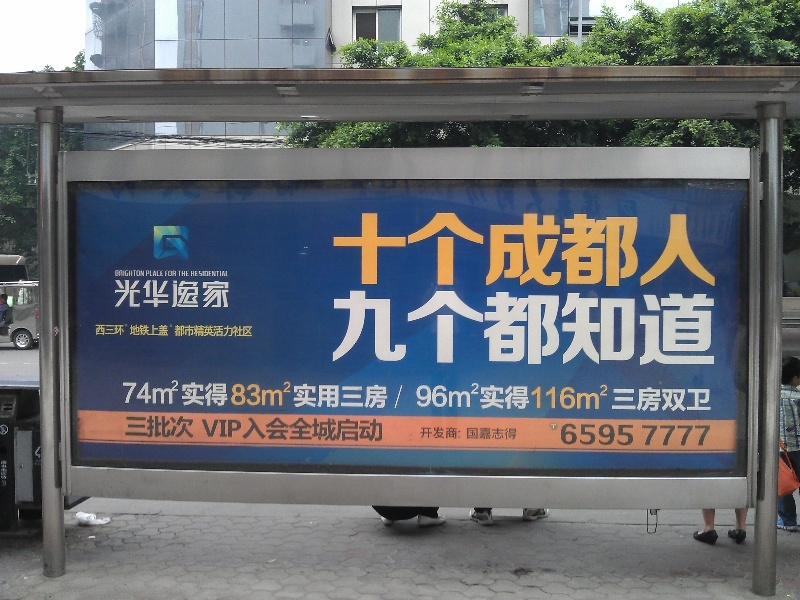text: (337, 211, 352, 290), (353, 211, 368, 290), (369, 211, 384, 290), (385, 211, 400, 290), (401, 211, 416, 290), (417, 211, 432, 290), (433, 211, 448, 290), (449, 211, 464, 290), (465, 211, 480, 290), (481, 211, 496, 290), (497, 211, 512, 290), (513, 211, 528, 290), (529, 211, 544, 290), (545, 211, 560, 290), (561, 211, 576, 290), (577, 211, 592, 290), (593, 211, 608, 290), (609, 211, 624, 290), (625, 211, 640, 290), (641, 211, 656, 290), (657, 211, 672, 290), (673, 211, 688, 290), (689, 211, 704, 290), (337, 289, 352, 367), (353, 289, 368, 367), (369, 289, 384, 367), (385, 289, 400, 367), (401, 289, 416, 367), (417, 289, 432, 367), (433, 289, 448, 367), (449, 289, 464, 367), (465, 289, 480, 367), (481, 289, 496, 367), (497, 289, 512, 367), (513, 289, 528, 367), (529, 289, 544, 367), (545, 289, 560, 367), (561, 289, 576, 367), (577, 289, 592, 367), (593, 289, 608, 367), (609, 289, 624, 367), (625, 289, 640, 367), (641, 289, 656, 367), (657, 289, 672, 367), (673, 289, 688, 367), (689, 289, 704, 367), (705, 211, 717, 290), (705, 289, 717, 367), (129, 379, 144, 409), (145, 379, 160, 409), (161, 379, 176, 409), (177, 379, 192, 409), (193, 379, 208, 409), (209, 379, 224, 409), (225, 379, 240, 409), (241, 379, 256, 409), (257, 379, 272, 409), (273, 379, 288, 409), (289, 379, 304, 409), (305, 379, 320, 409), (321, 379, 336, 409), (337, 379, 352, 409), (353, 379, 368, 409), (369, 379, 384, 409), (417, 383, 432, 413), (433, 383, 448, 413), (449, 383, 464, 413), (465, 383, 480, 413), (481, 383, 496, 413), (497, 383, 512, 413), (513, 383, 528, 413), (529, 383, 544, 413), (545, 383, 560, 413), (561, 383, 576, 413), (577, 383, 592, 413), (593, 383, 608, 413), (609, 383, 624, 413), (625, 383, 640, 413), (641, 383, 656, 413), (657, 383, 672, 413), (673, 383, 688, 413), (689, 383, 704, 413), (129, 280, 144, 309), (145, 280, 160, 309), (161, 280, 176, 309), (177, 280, 192, 309), (193, 280, 208, 309), (209, 280, 224, 309), (369, 416, 385, 443), (114, 280, 128, 309), (209, 416, 224, 443), (225, 416, 240, 443), (241, 416, 256, 443), (257, 416, 272, 443), (273, 416, 288, 443), (289, 416, 304, 443), (305, 416, 320, 443), (321, 416, 336, 443), (337, 416, 352, 443), (353, 416, 368, 443), (331, 289, 336, 367), (561, 424, 576, 447), (577, 424, 592, 447), (593, 424, 608, 447), (609, 424, 624, 447), (641, 425, 656, 447), (657, 425, 672, 447), (673, 425, 688, 447), (689, 425, 704, 447), (129, 416, 144, 438), (145, 416, 160, 438), (161, 416, 176, 438), (177, 416, 192, 438), (332, 211, 336, 290), (1, 461, 16, 480), (625, 424, 636, 447), (433, 426, 448, 441), (449, 426, 464, 441), (465, 426, 480, 441), (481, 426, 496, 441), (497, 426, 512, 441), (705, 383, 712, 413), (177, 325, 192, 338), (193, 325, 208, 338), (209, 325, 224, 338), (225, 325, 240, 338), (145, 324, 160, 337), (201, 416, 208, 443), (130, 324, 144, 337), (97, 324, 112, 336), (421, 426, 432, 441), (394, 383, 400, 410), (241, 325, 253, 338), (123, 379, 128, 409), (225, 280, 230, 309), (113, 324, 125, 336), (705, 425, 711, 447), (129, 270, 145, 277), (161, 324, 169, 337), (178, 270, 192, 277), (115, 270, 128, 277), (385, 379, 388, 409), (193, 271, 208, 277), (209, 271, 224, 277), (146, 271, 160, 277), (513, 426, 518, 441), (165, 271, 176, 277), (551, 424, 560, 430), (401, 383, 403, 410), (126, 416, 128, 438), (35, 463, 48, 466), (36, 460, 48, 463), (225, 271, 229, 277), (193, 416, 194, 438), (161, 271, 164, 277), (175, 325, 176, 338), (95, 324, 96, 336), (191, 271, 192, 277)
